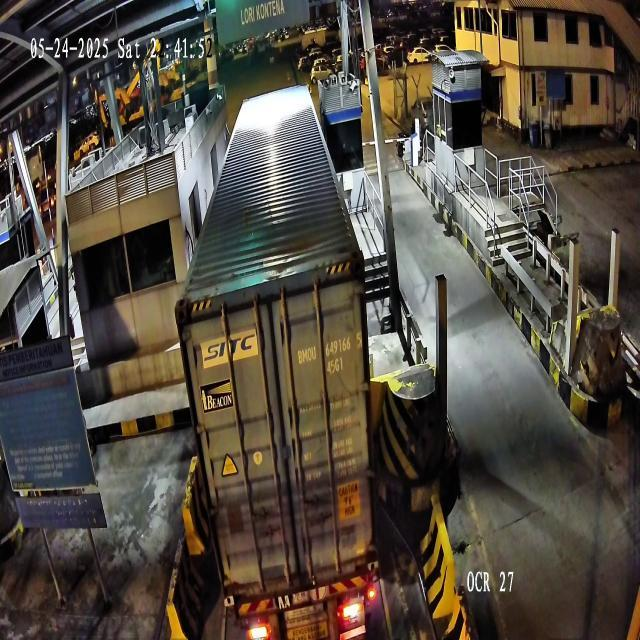ISO: (326, 356, 343, 376)
container_number: (298, 332, 362, 368)
